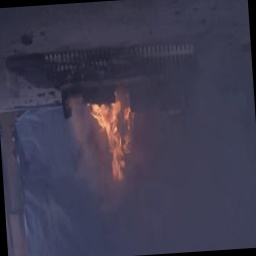fire: (90, 97, 137, 183)
